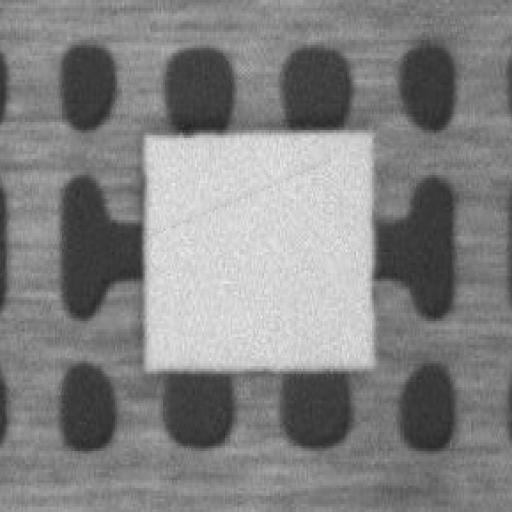DIE_CRACK: (218, 104, 490, 156)
